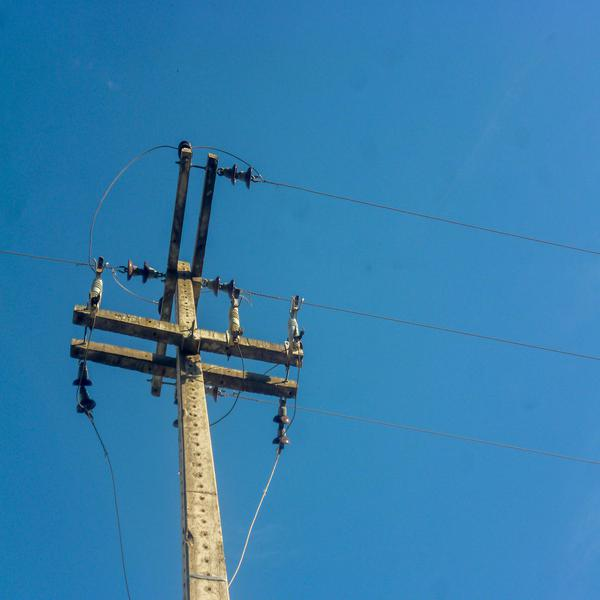utility_pole: (55, 126, 312, 512)
